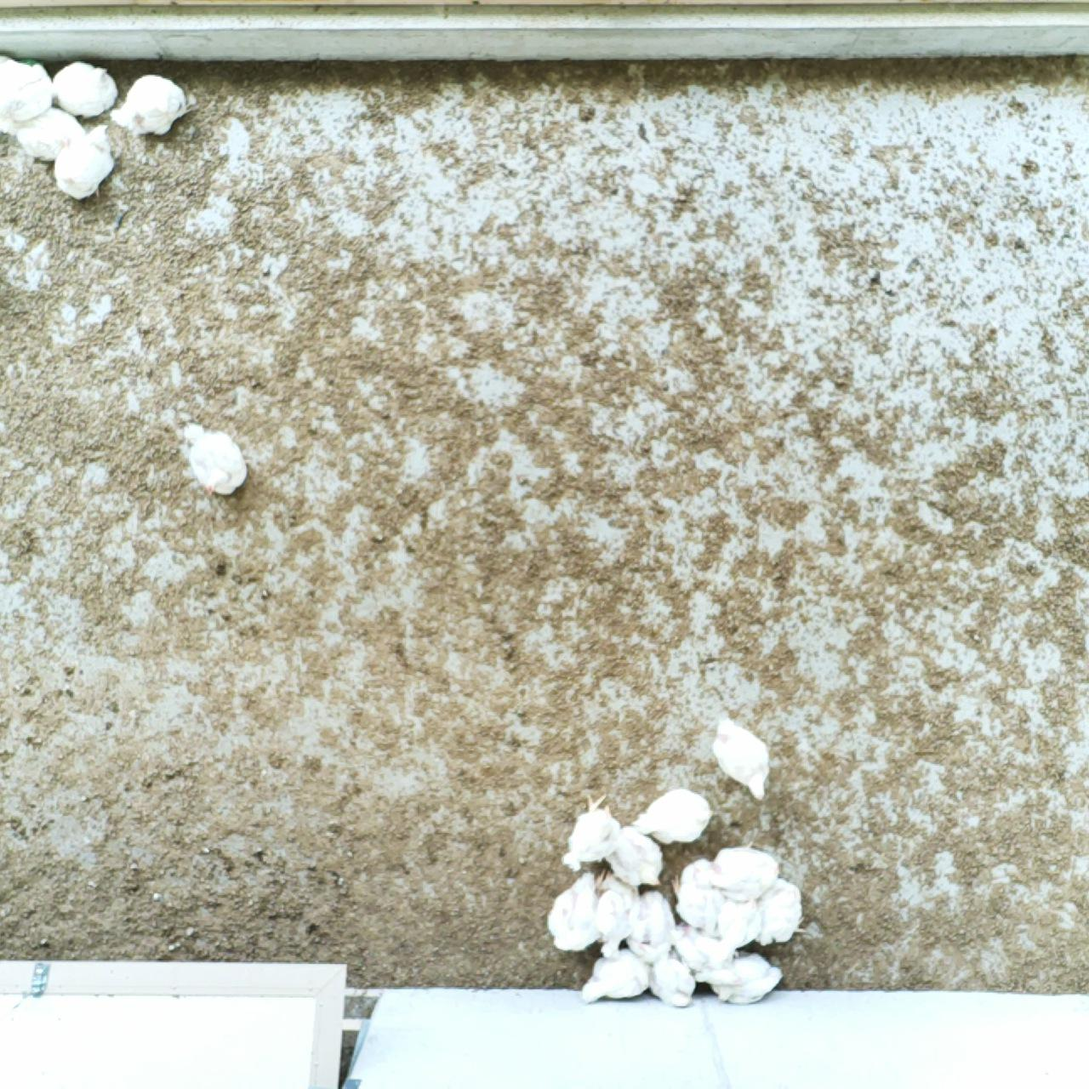chicken: (181, 419, 251, 499), (108, 72, 191, 138), (697, 841, 781, 904), (714, 708, 770, 802), (545, 868, 604, 955), (51, 123, 116, 201), (588, 869, 641, 959), (0, 49, 54, 137), (634, 785, 713, 845), (669, 854, 725, 937), (560, 793, 620, 870), (579, 946, 653, 1005), (49, 59, 119, 121), (13, 105, 86, 164), (706, 951, 785, 1004), (663, 921, 736, 978), (755, 876, 811, 948), (603, 820, 661, 889), (710, 887, 763, 954), (627, 887, 673, 964), (646, 952, 698, 1008)
